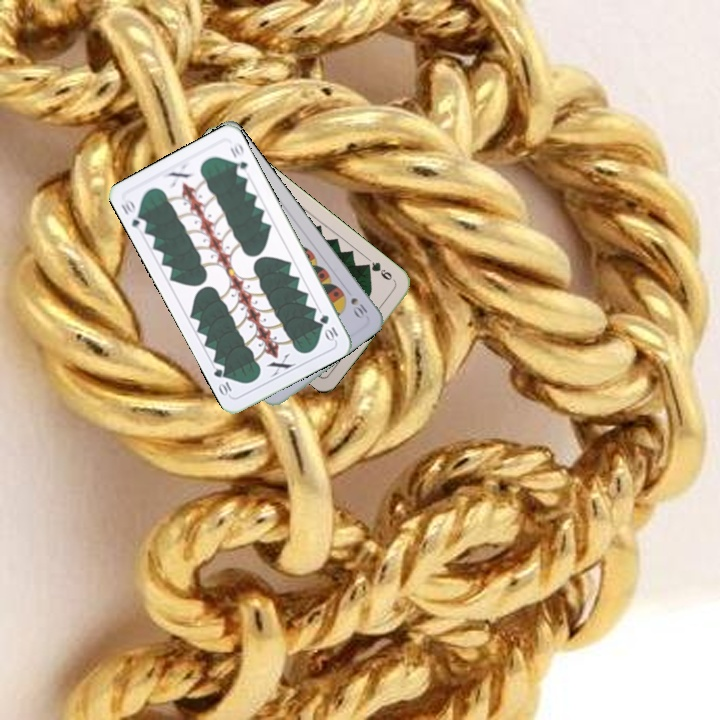G10: (117, 195, 149, 234), (316, 310, 341, 344)
G9: (361, 258, 398, 285)
S10: (346, 293, 370, 320)
